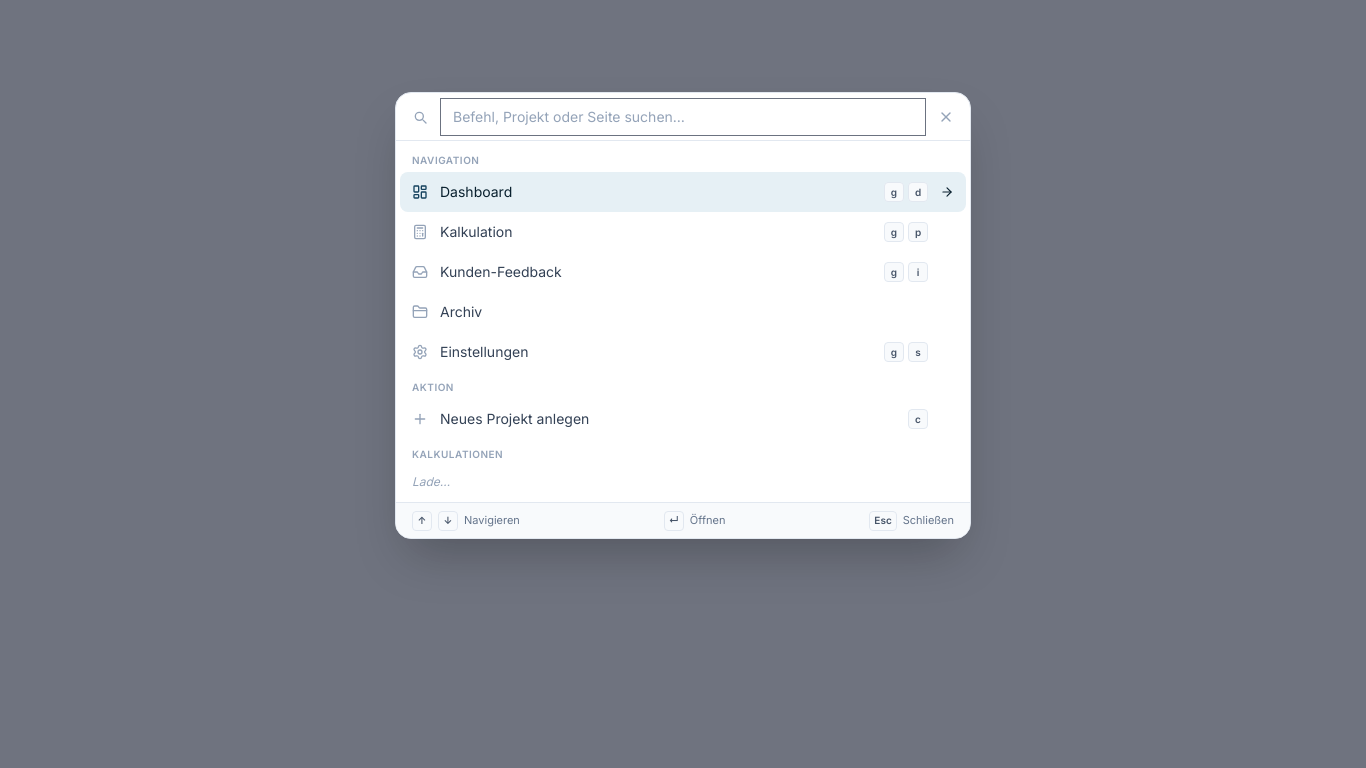
Scenario: CommandPalette edges — type while loading › typing while loading hides spinner once results land + filter applies
Expected: the text "Lade…" is shown, [412,474,450,489]
Note: Type while loading.
Type "alpha" into the field with placeholder "Befehl, Projekt oder Seite suchen…".
click(683, 117); type("alpha")  # box [440,98,926,136]
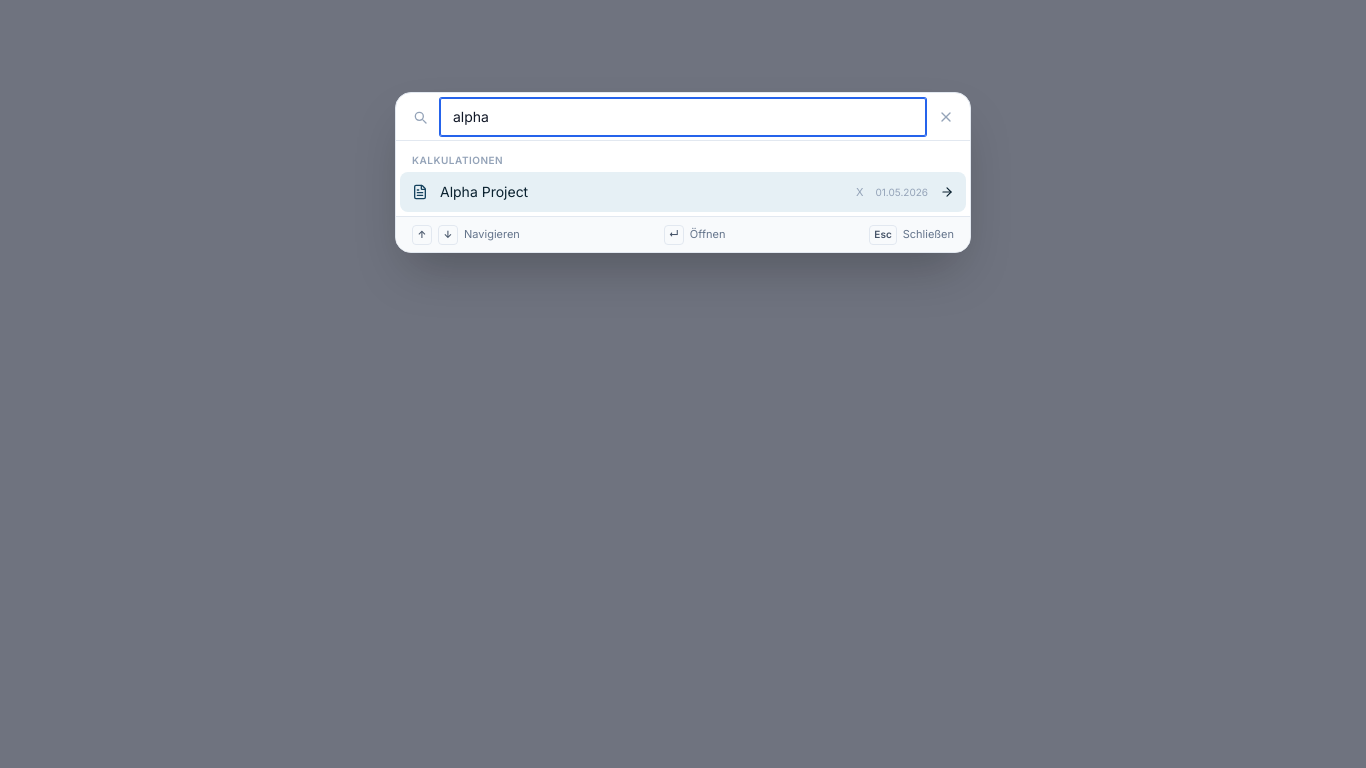
Now the text with test id "cmdk-loading-Kalkulationen" is gone
Now the text "Alpha Project" is shown, box [440,183,528,200]
